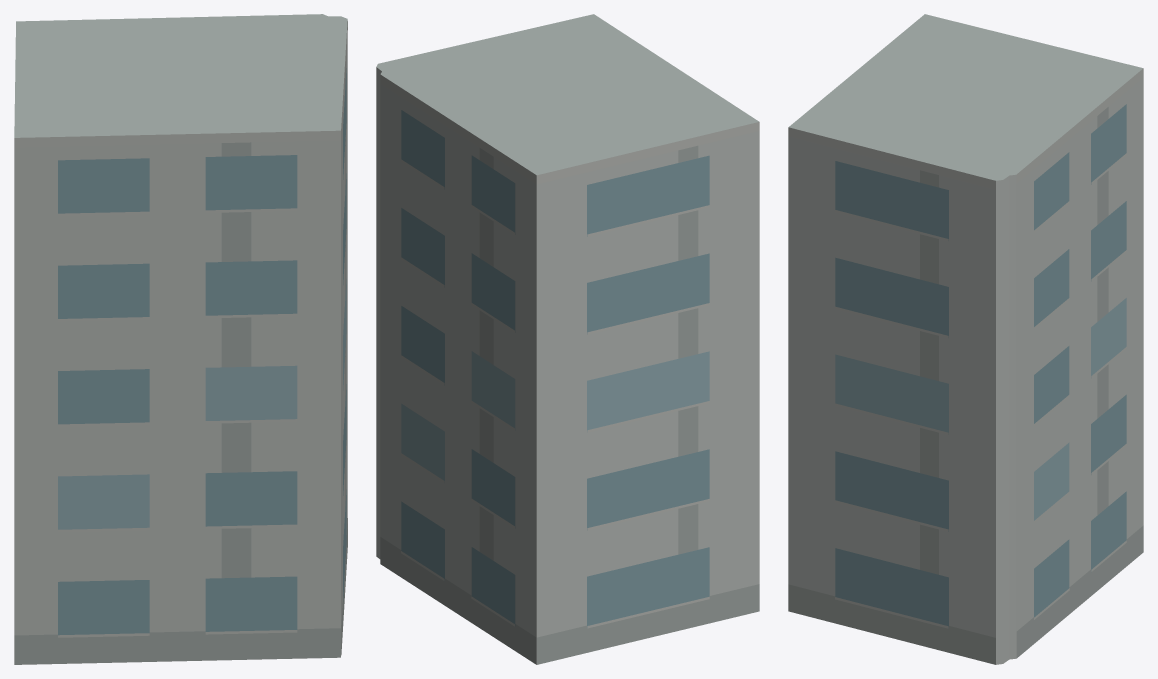
The model's file is survey-upis-32729606.glb.
The picture shows the model from 3 angles, left to right: view 1: azimuth 30°, elevation 25°; view 2: azimuth 150°, elevation 25°; view 3: azimuth 270°, elevation 25°; orthographic projection. The views are drawn at different scales.
Visible parts, largest first — view 1: survey-upis-32729606.tmp; view 2: survey-upis-32729606.tmp; view 3: survey-upis-32729606.tmp.
Part boxes in pixels (x1=…): survey-upis-32729606.tmp: x1=14, y1=14, x2=347, y2=664; survey-upis-32729606.tmp: x1=376, y1=14, x2=759, y2=664; survey-upis-32729606.tmp: x1=788, y1=14, x2=1143, y2=664.
Bounding box in the file's own units: 9.69 × 13.1 × 8.72.
